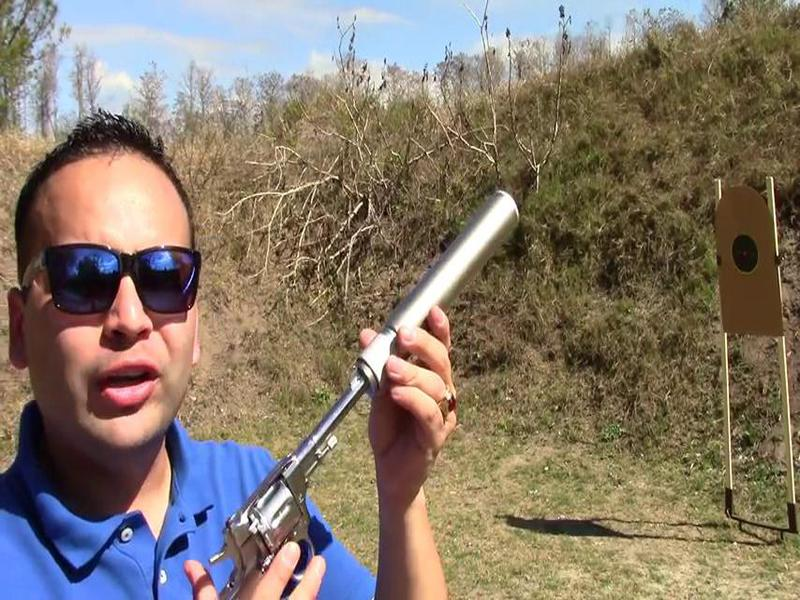Revolver: (153, 363, 376, 600)
